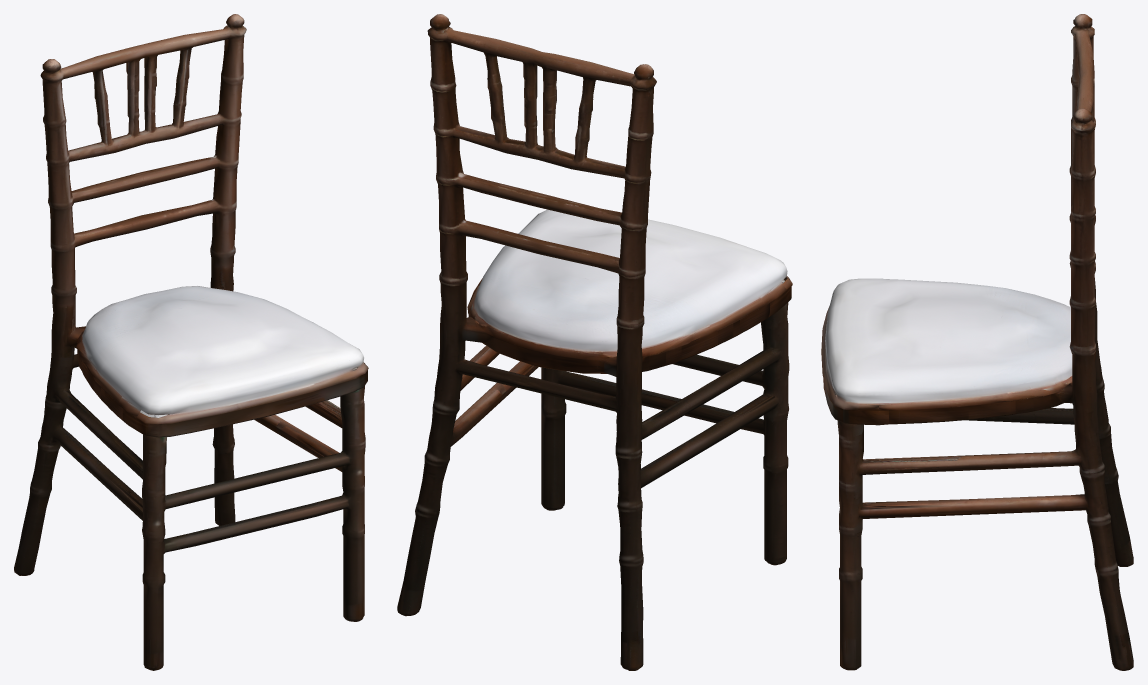
File: FRUITWOOD_CHIAVARI_CH_0403042406_texture.glb
3 renders of one model, left to right at view 1: azimuth 30°, elevation 25°; view 2: azimuth 150°, elevation 25°; view 3: azimuth 270°, elevation 25°, orthographic. The views are drawn at different scales.
Parts seen in each view (by area): view 1: Mesh_0.001; view 2: Mesh_0.001; view 3: Mesh_0.001.
Boxes of the visible parts, box(x1,y1,x2,y2) form: Mesh_0.001: box(14, 14, 368, 670); Mesh_0.001: box(397, 14, 792, 670); Mesh_0.001: box(821, 14, 1133, 670).
Size of the model in its own units: 0.3688 by 0.8128 by 0.4156.
Materials: 1 (1 with a texture image).
